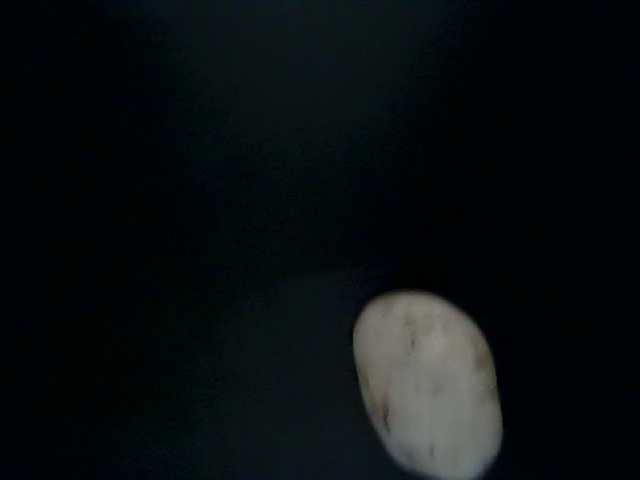QTLJ: (447, 433, 587, 480)
